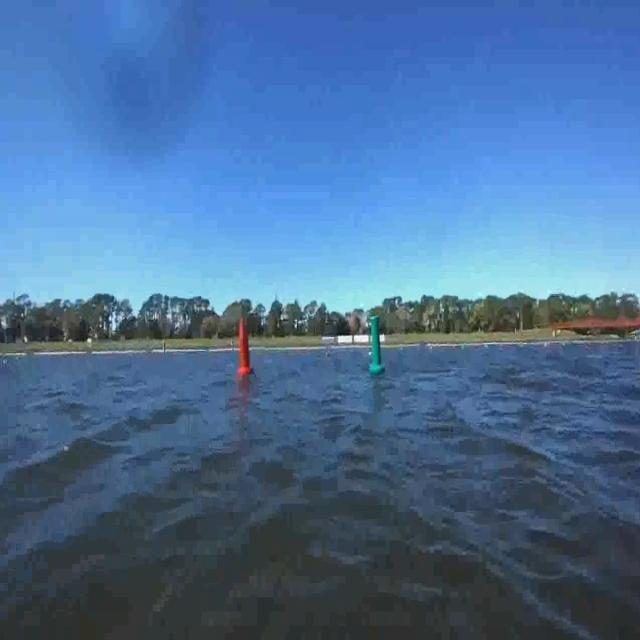green-column-buoy: (367, 315, 384, 374)
red-column-buoy: (237, 316, 254, 375)
